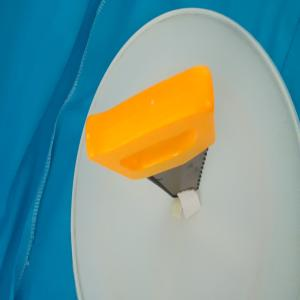serrote: (85, 61, 217, 198)
